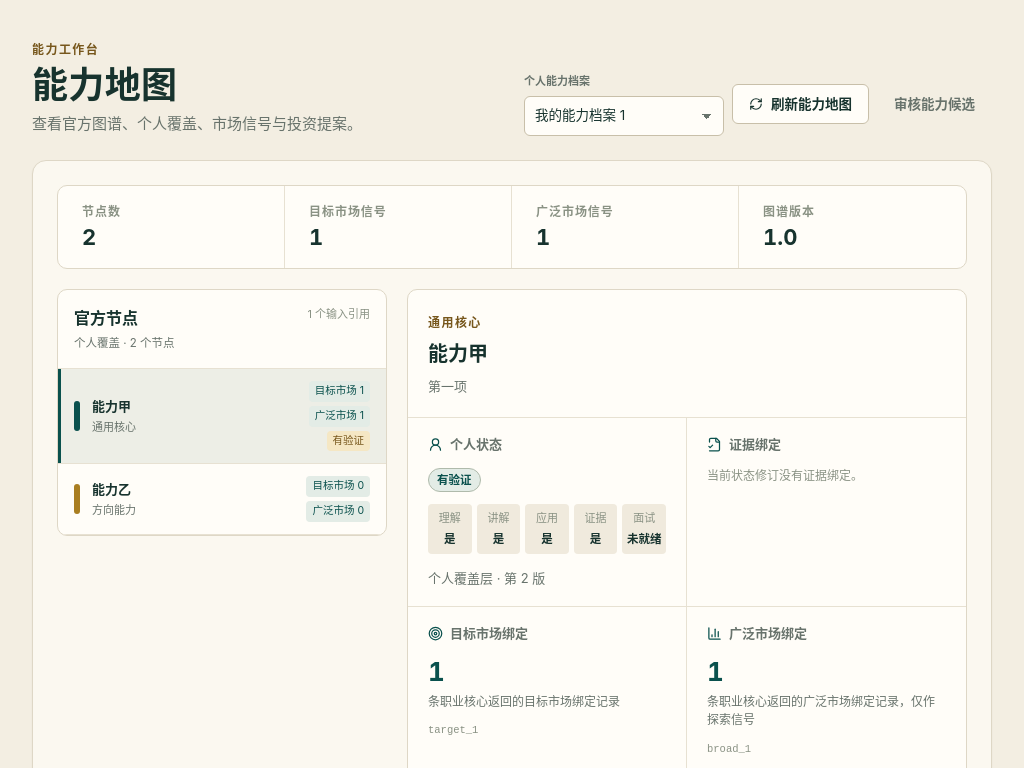
it: 能力候选审核后返回原精确查询上下文
The width and height of the screenshot is (1024, 768).
Check: the heading "官方节点" is shown, box [74,308,138,328]
Click the link "审核能力候选" at (934, 104), box [894,96,975,112]
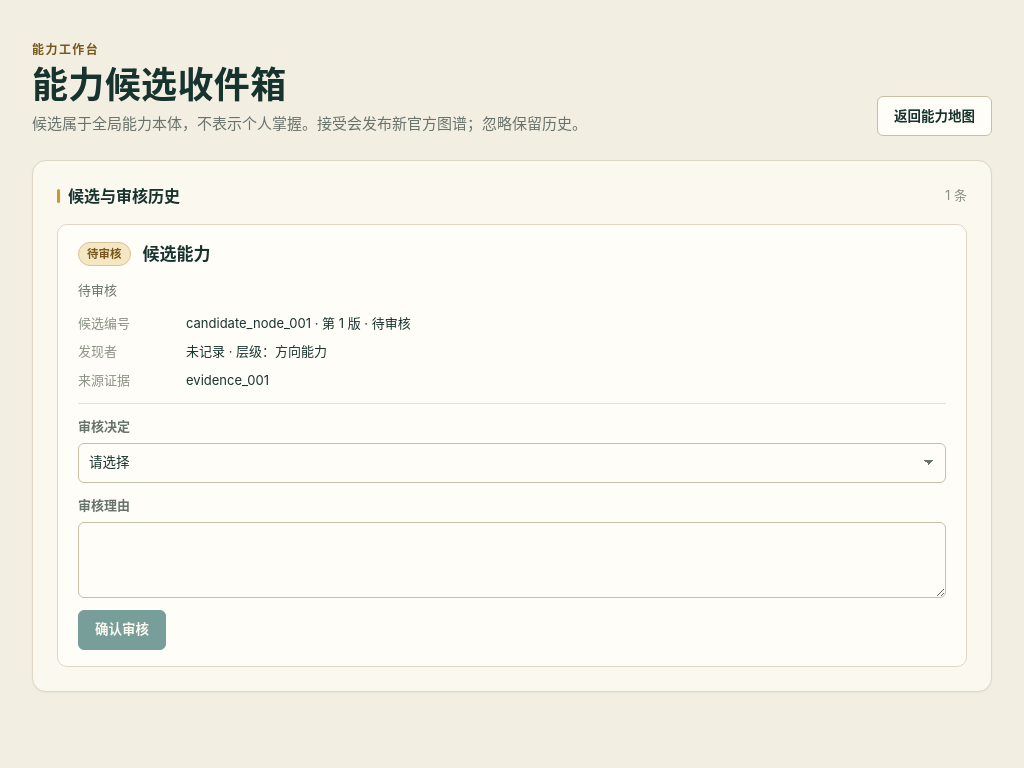
Check: the heading "候选能力" is shown, box [142,241,210,268]
Select "忽略：保留审核历史" in the dropdown labelled "审核决定" at (512, 463), box [78,443,946,483]
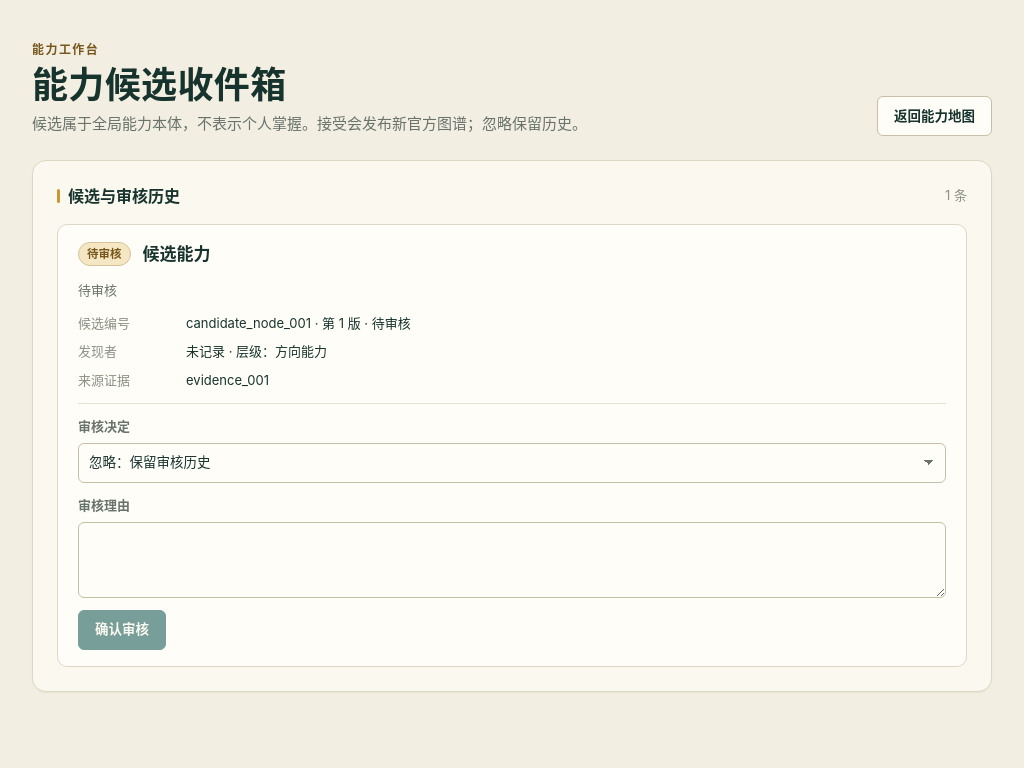
Type "证据不足" into the text box labelled "审核理由" at (512, 560), box [78,522,946,598]
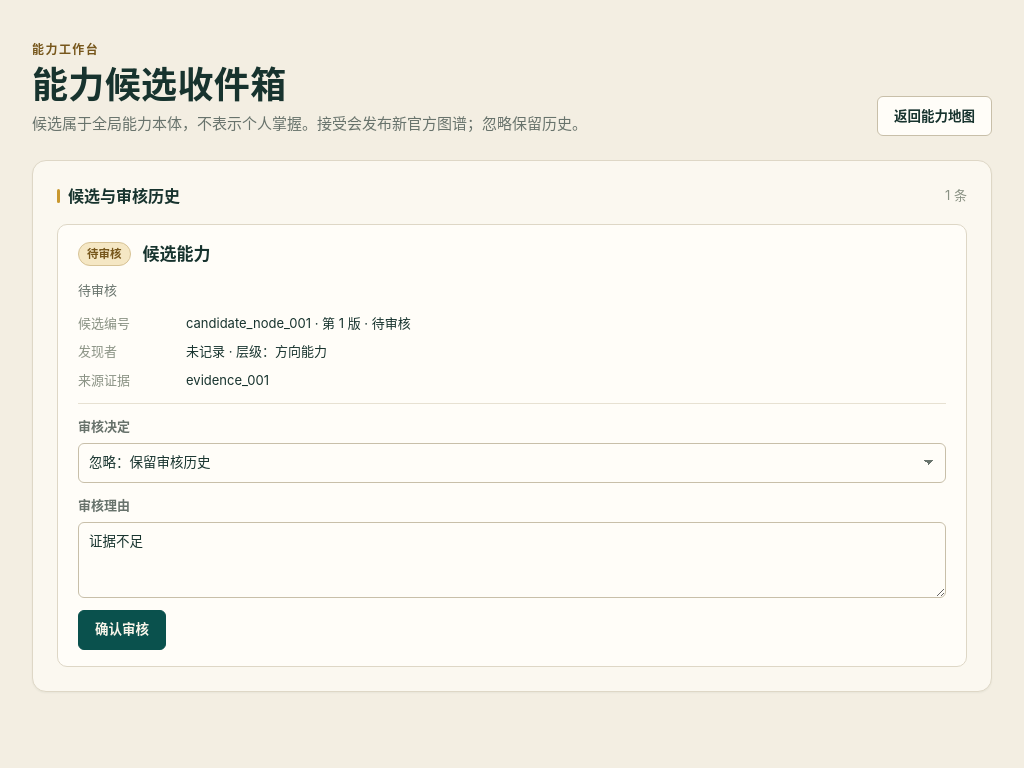
Click the button "确认审核" at (122, 630), box [78,610,166,650]
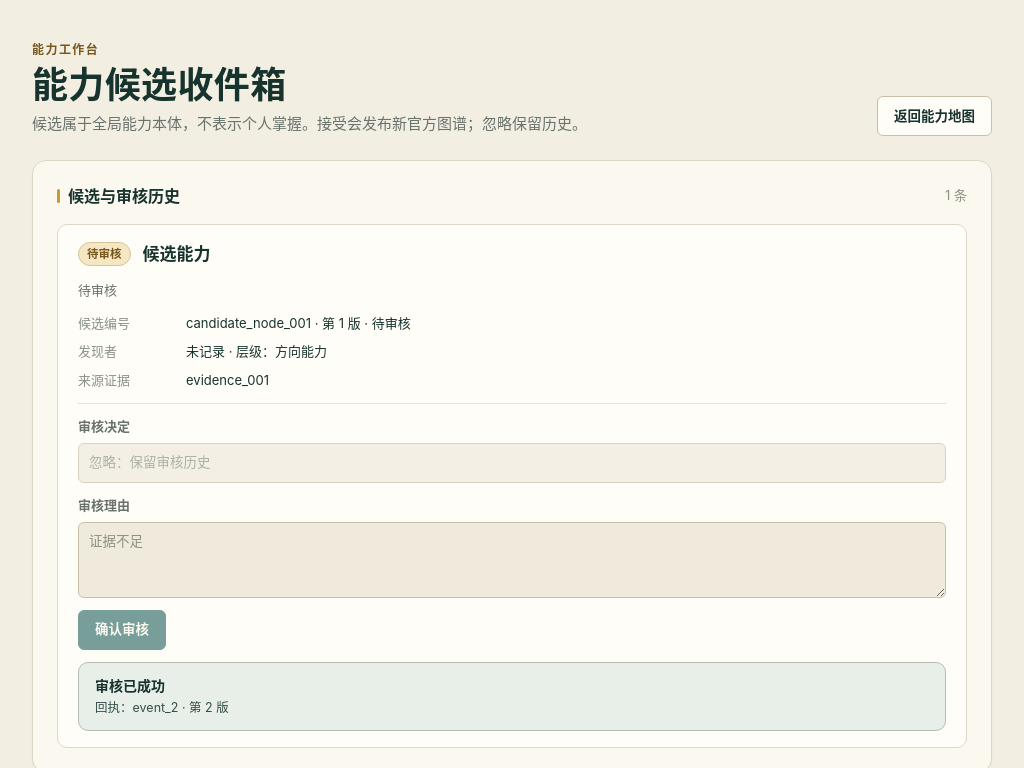
Check: the heading "审核已成功" is shown, box [95,676,165,694]
Click the link "返回能力地图" at (934, 116), box [877,96,992,136]
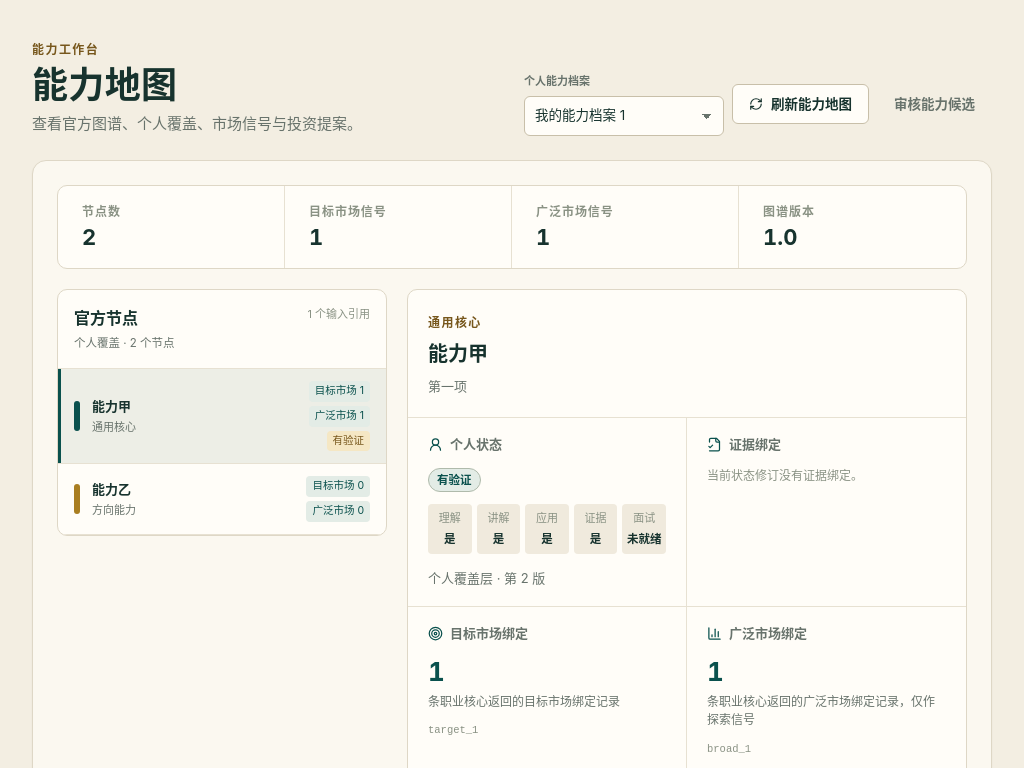
Check: the heading "官方节点" is shown, box [74,308,138,328]
